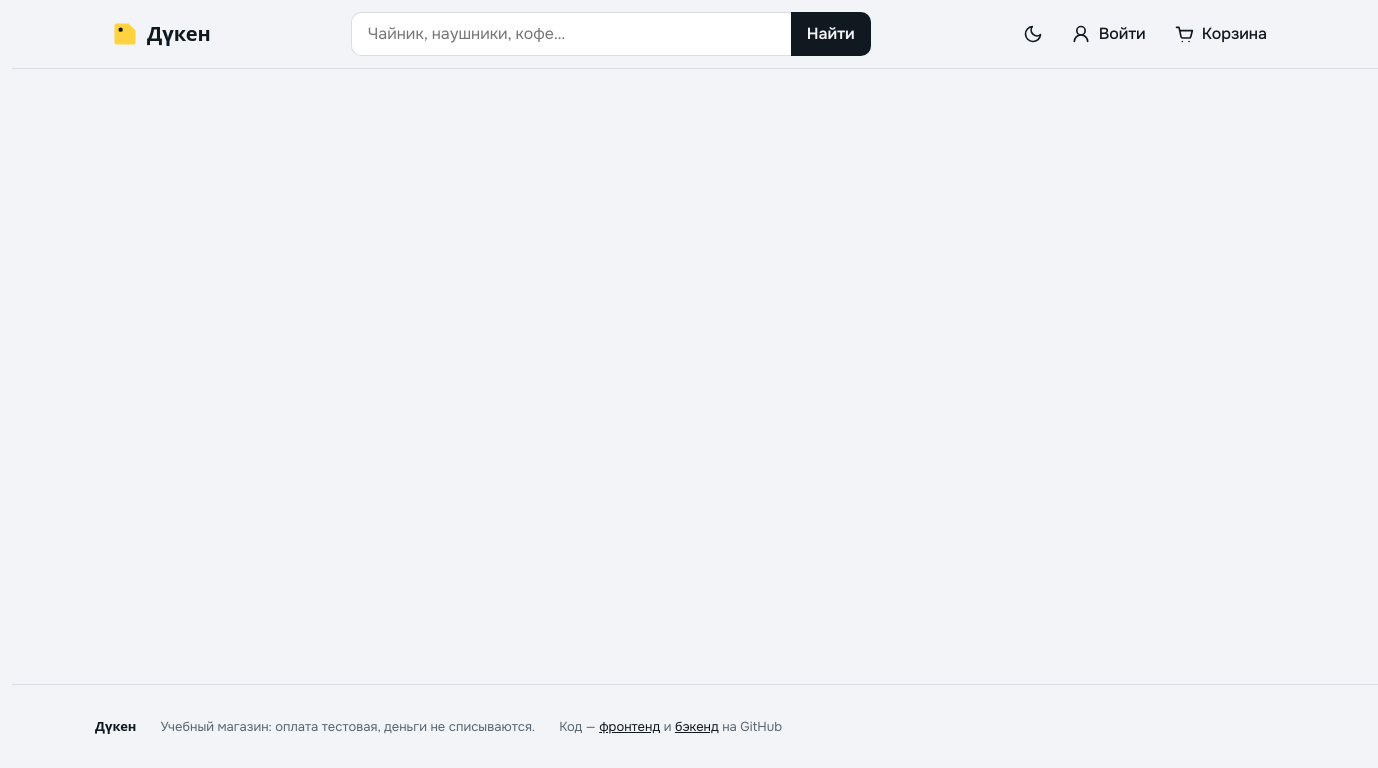
поиск переходит в каталог с запросом
Type "кофе" into the search field named "Поиск товаров". click: (571, 34)
box: [351,12,791,56]
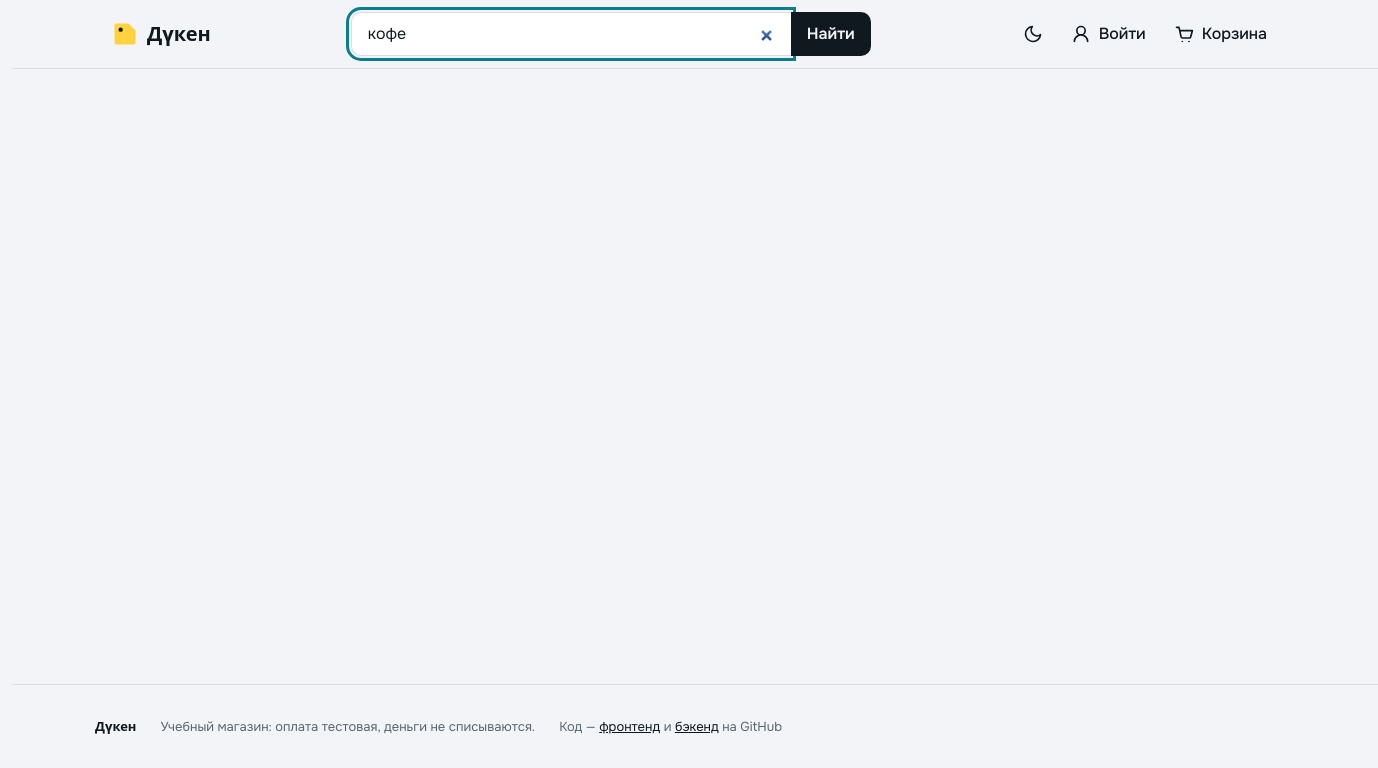
Click the button "Найти". click: (831, 34)
box: [791,12,871,56]
(page scrolled)
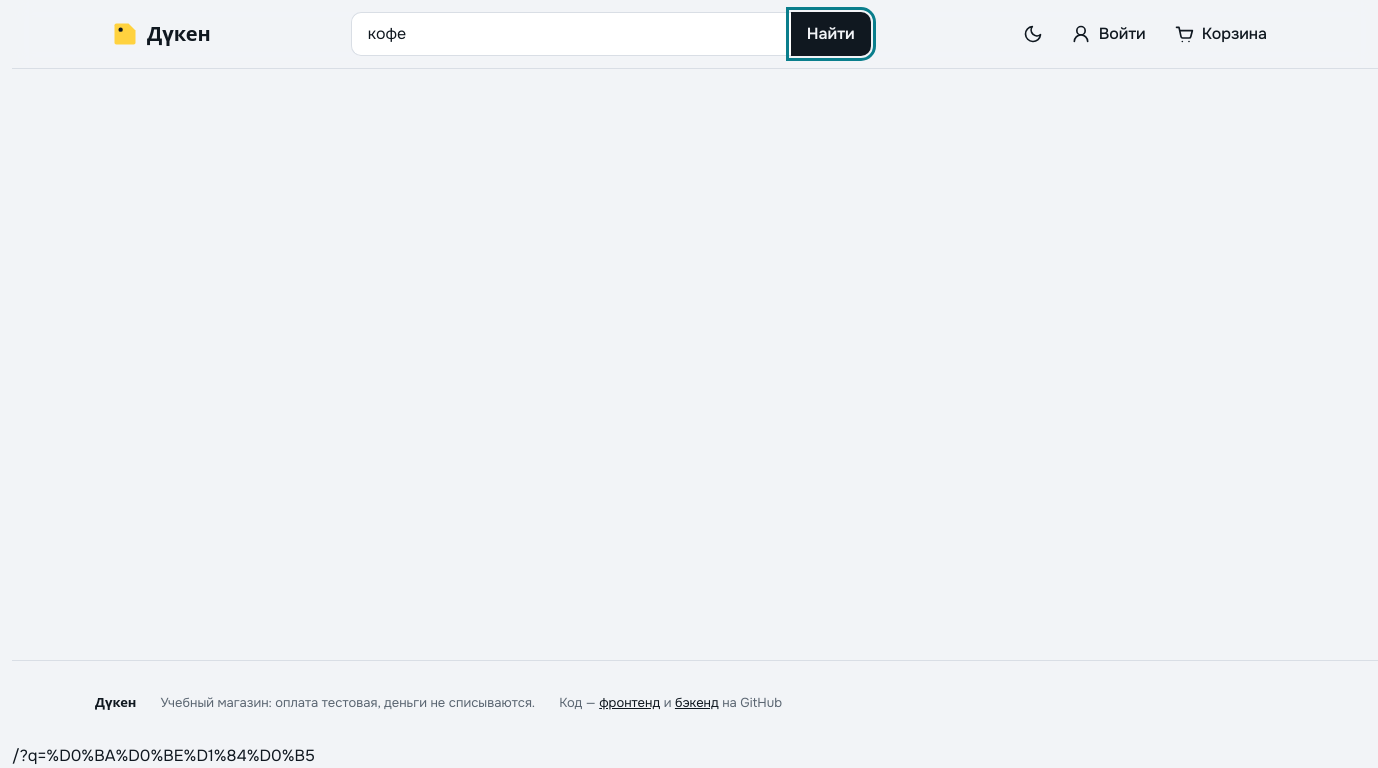
Now the text with test id "location" reads "/?q=%D0%BA%D0%BE%D1%84%D0%B5", box [12,745,315,766]
